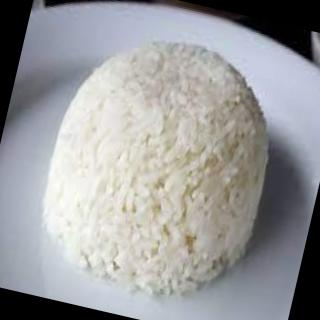Nasi: (26, 17, 292, 312)
